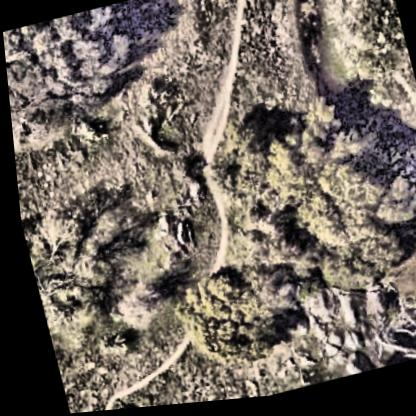tree-top: (239, 87, 416, 316), (1, 1, 154, 166), (16, 198, 125, 349), (160, 260, 285, 379)
